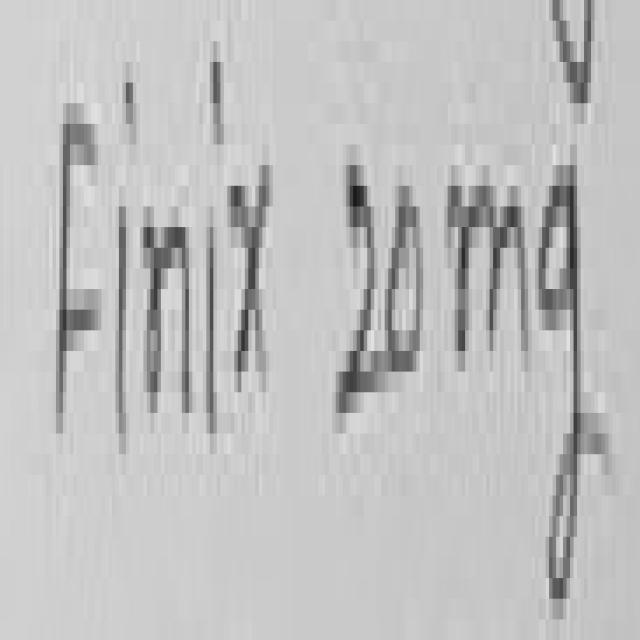0: (388, 186, 423, 372)
2: (339, 165, 388, 413)
F: (56, 124, 101, 434)
g: (542, 165, 584, 599)
i: (206, 206, 217, 434), (119, 206, 126, 454), (210, 41, 224, 145), (126, 83, 136, 145)
m: (451, 186, 532, 351)
n: (143, 227, 189, 413)
x: (231, 165, 273, 382)
